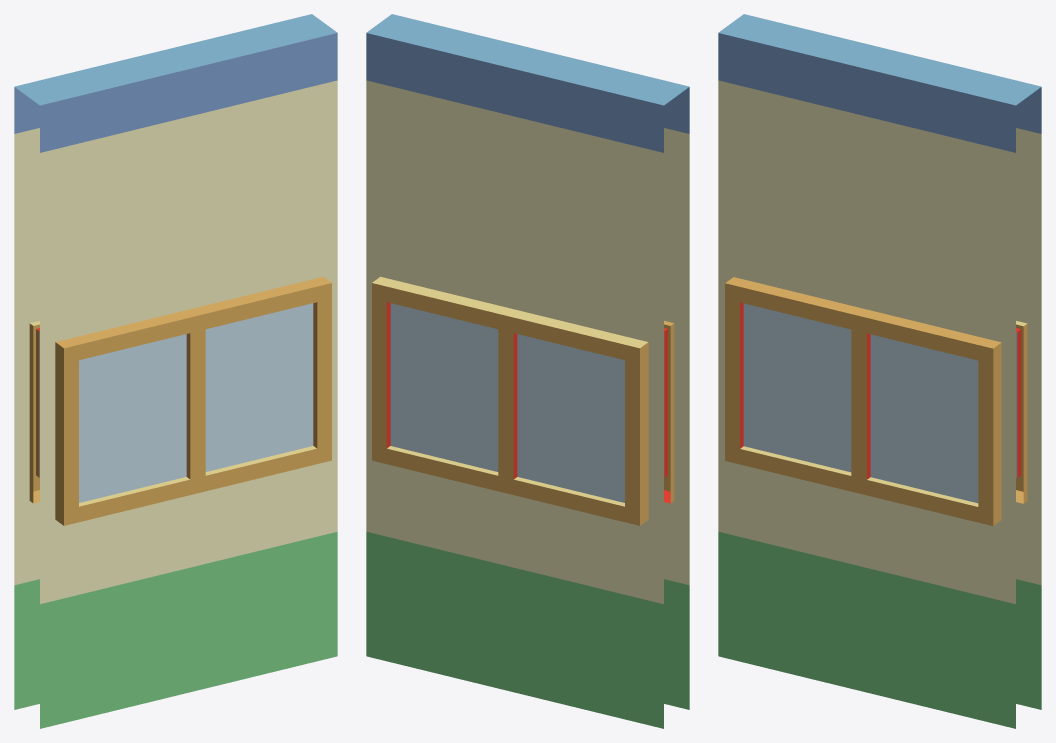
The model's file is window_inside.fbx.
The picture shows the model from 3 angles, left to right: view 1: azimuth 30°, elevation 25°; view 2: azimuth 150°, elevation 25°; view 3: azimuth 330°, elevation 25°; orthographic projection.
Visible parts, largest first — view 1: window_inside; view 2: window_inside; view 3: window_inside.
Boxes of the visible parts, <box> form: window_inside: <box>14,14,337,728</box>; window_inside: <box>366,14,689,728</box>; window_inside: <box>718,14,1041,728</box>.
Bounding box in the file's own units: 200 × 400 × 49.85.
